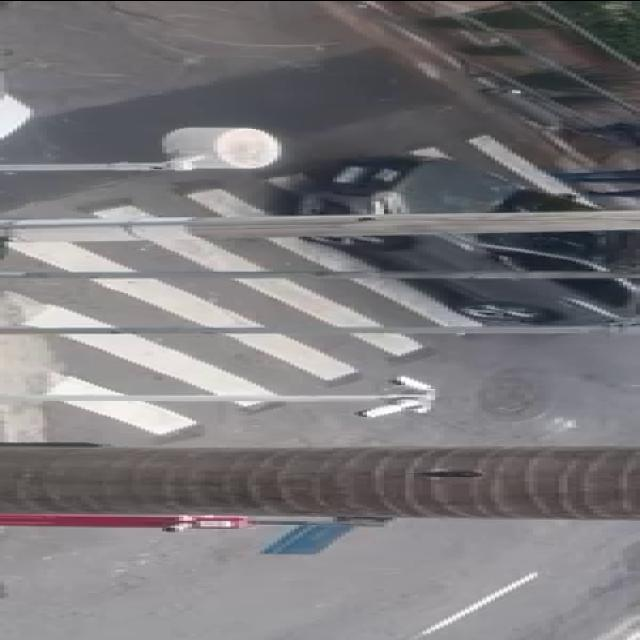car: (282, 148, 640, 334)
